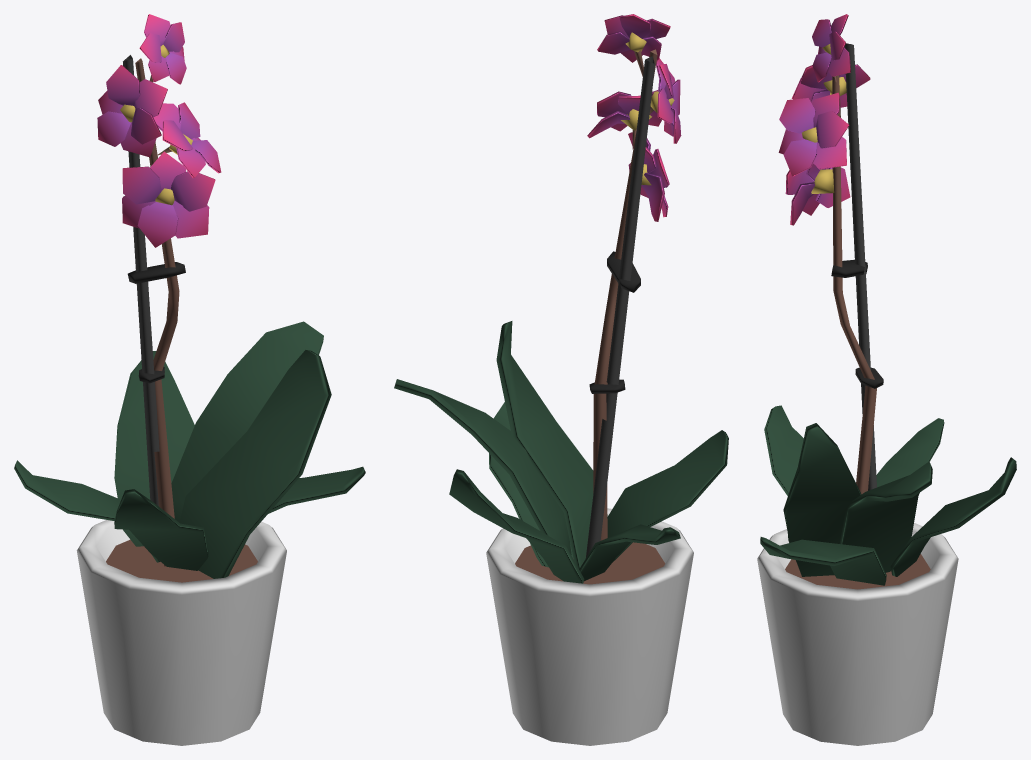
Rendered from flower_006.fbx.
The picture shows the model from 3 angles, left to right: view 1: azimuth 30°, elevation 25°; view 2: azimuth 150°, elevation 25°; view 3: azimuth 270°, elevation 25°; orthographic projection. The views are drawn at different scales.
Visible parts, largest first — view 1: flower_006; view 2: flower_006; view 3: flower_006.
Part boxes in pixels (<box>): flower_006: <box>14,14,365,745</box>; flower_006: <box>394,14,728,745</box>; flower_006: <box>757,14,1016,745</box>.
Bounding box in the file's own units: 64.18 × 51.09 × 148.
